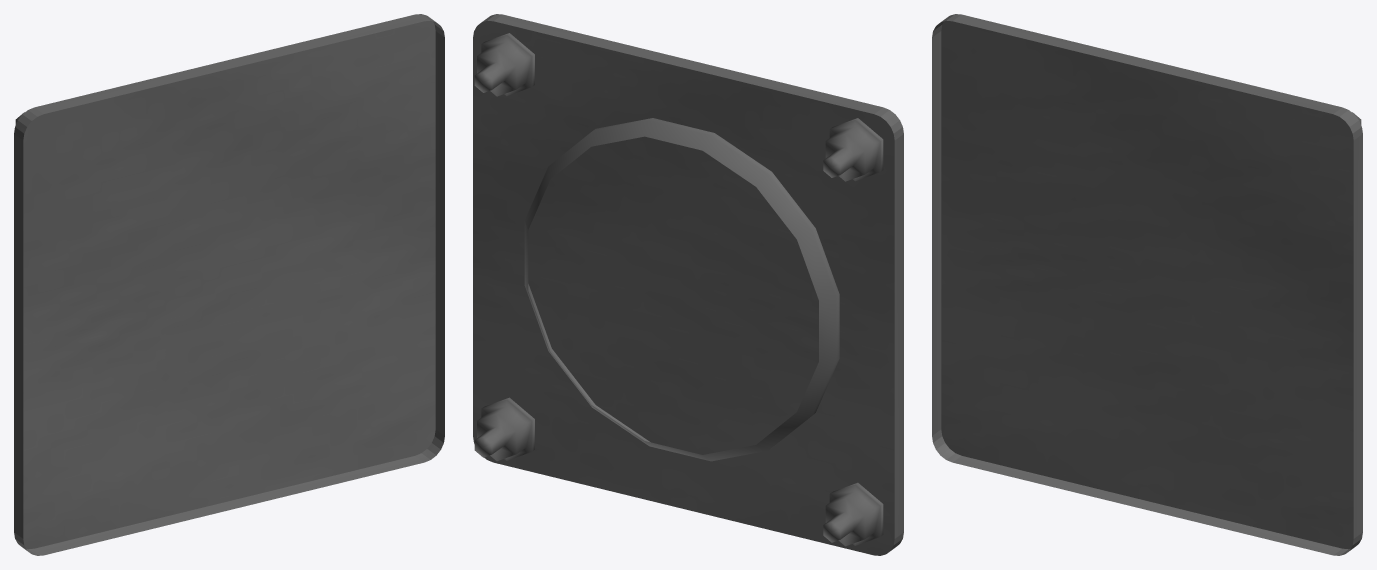
The model's file is polebase_thin_slim.obj.
3 views of the same model, side by side, from view 1: azimuth 30°, elevation 25°; view 2: azimuth 150°, elevation 25°; view 3: azimuth 330°, elevation 25° (orthographic).
Visible parts, largest first — view 1: polebase_thin_slim; view 2: polebase_thin_slim; view 3: polebase_thin_slim.
Boxes of the visible parts, box(x1,y1,x2,y2) form: polebase_thin_slim: box(14, 14, 444, 555); polebase_thin_slim: box(473, 14, 903, 555); polebase_thin_slim: box(932, 14, 1362, 555).
Bounding box in the file's own units: 0.72 × 0.72 × 0.105.
